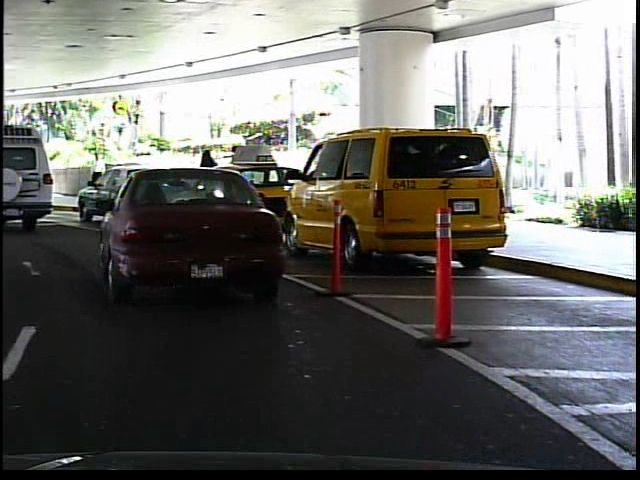person: (194, 143, 226, 206), (229, 140, 254, 205), (85, 146, 109, 201), (19, 156, 39, 197)
